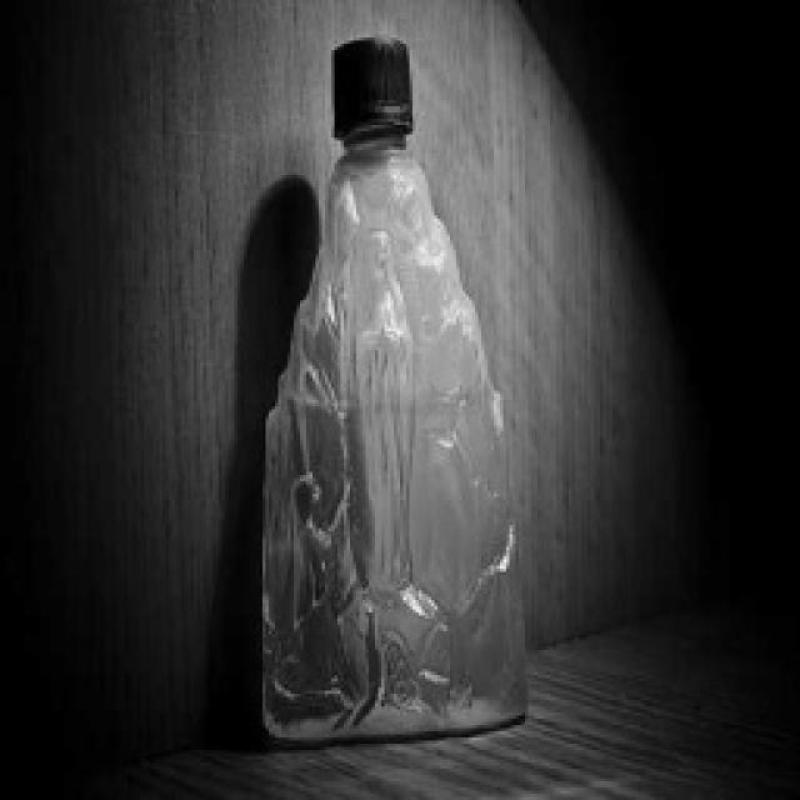botella: (253, 42, 541, 733)
